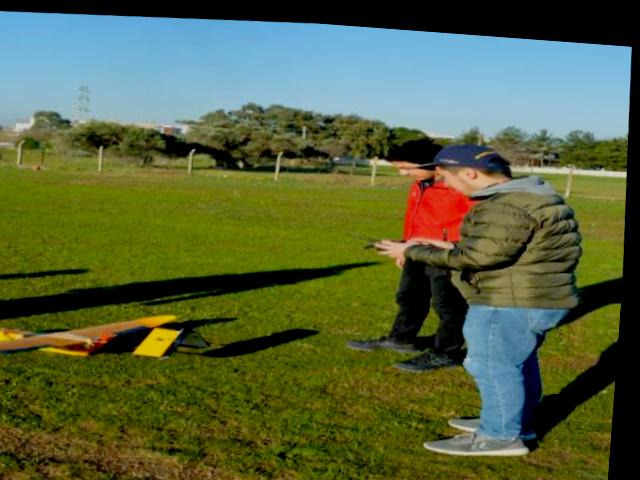iha: (0, 288, 217, 389)
